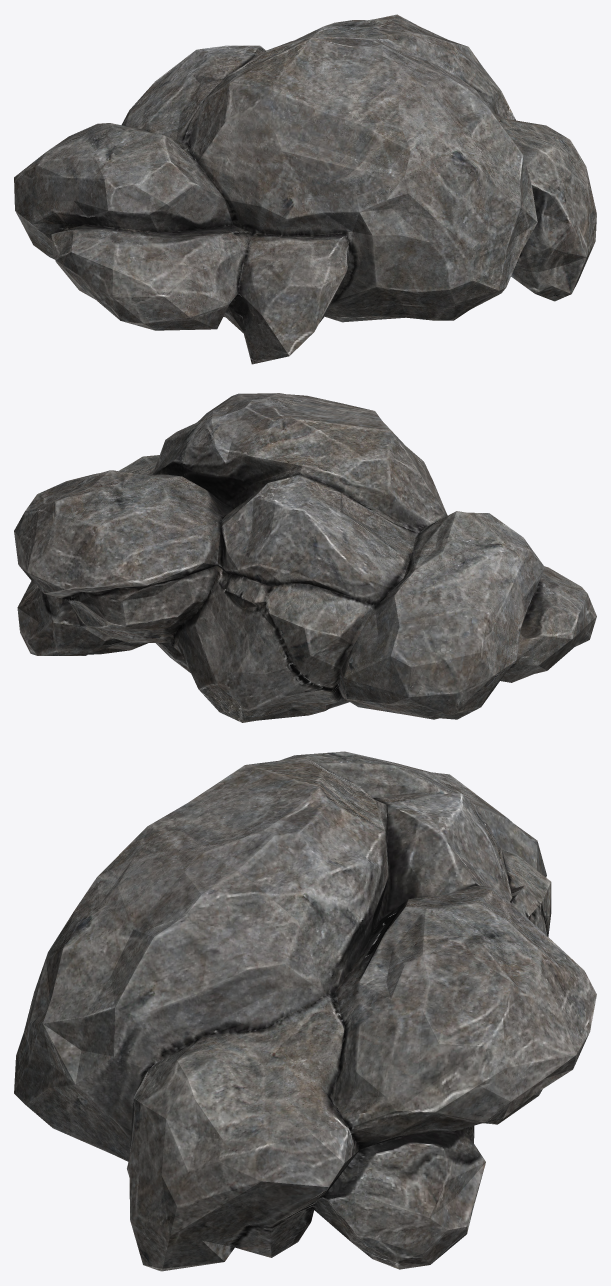
File: Rocks_02.obj
The picture shows the model from 3 angles, top to bottom: view 1: azimuth 30°, elevation 25°; view 2: azimuth 150°, elevation 25°; view 3: azimuth 270°, elevation 25°; orthographic projection. The views are drawn at different scales.
Visible parts, largest first — view 1: Rocks_02; view 2: Rocks_02; view 3: Rocks_02.
Boxes of the visible parts, box(x1,y1,x2,y2) form: Rocks_02: box(14, 14, 596, 364); Rocks_02: box(14, 393, 596, 722); Rocks_02: box(14, 751, 596, 1271).
Bounding box in the file's own units: 136 × 67.57 × 98.91.
1 material, 1 textured.
